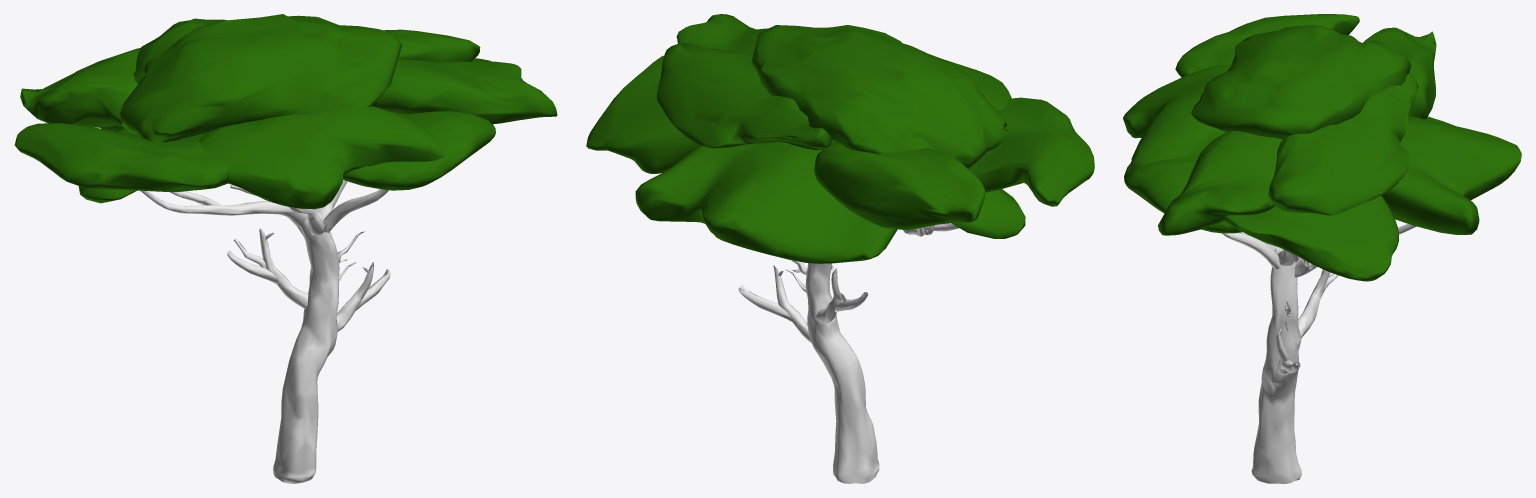
The model's file is AfricaTree03.fbx.
3 views of the same model, side by side, from view 1: azimuth 30°, elevation 25°; view 2: azimuth 150°, elevation 25°; view 3: azimuth 270°, elevation 25° (orthographic). The views are drawn at different scales.
Visible parts, largest first — view 1: Leaves, Trunk; view 2: Leaves, Trunk; view 3: Leaves, Trunk.
Boxes of the visible parts, x1=… form: Leaves: x1=14, y1=14, x2=557, y2=209; Trunk: x1=140, y1=180, x2=390, y2=483; Leaves: x1=586, y1=14, x2=1094, y2=263; Trunk: x1=738, y1=223, x2=959, y2=483; Leaves: x1=1123, y1=14, x2=1521, y2=281; Trunk: x1=1222, y1=224, x2=1416, y2=483.
Bounding box in the file's own units: 293 × 265 × 228.
